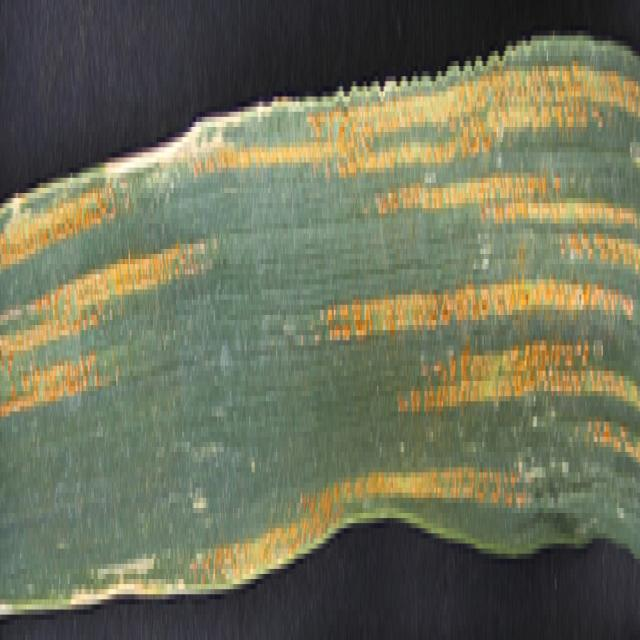leaf rust: (1, 41, 640, 574)
